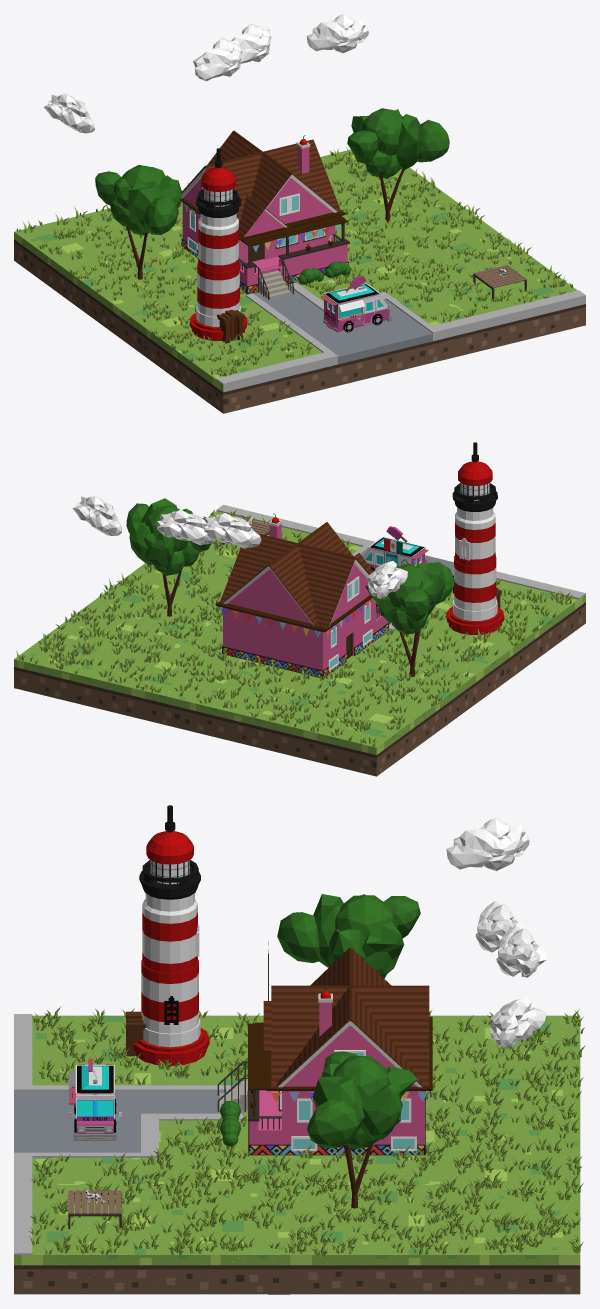
3 views of the same model, one above another, from view 1: azimuth 30°, elevation 25°; view 2: azimuth 150°, elevation 25°; view 3: azimuth 270°, elevation 25° (orthographic). The views are drawn at different scales.
Visible parts, largest first — view 1: Cube.006, Circle.012_Grass_0.192, Cube.1005, OBJRANDOM_LIGHTHOUSE, Cube.007, tree, tree.001, VEHICLES_ICE_CREAM_TRUCK, Cube.009; view 2: Cube.006, Cube.1005, Circle.012_Grass_0.192, OBJRANDOM_LIGHTHOUSE, Cube.007, tree.001, tree, VEHICLES_ICE_CREAM_TRUCK; view 3: Cube.006, Circle.012_Grass_0.192, Cube.1005, OBJRANDOM_LIGHTHOUSE, tree, Cube.007, tree.001, VEHICLES_ICE_CREAM_TRUCK, Cube.009.
Boxes of the visible parts, <box> form: Cube.006: <box>14,149,585,413</box>; Circle.012_Grass_0.192: <box>16,147,573,376</box>; Cube.1005: <box>179,130,349,300</box>; OBJRANDOM_LIGHTHOUSE: <box>189,148,247,343</box>; Cube.007: <box>44,14,368,133</box>; tree: <box>347,108,449,222</box>; tree.001: <box>95,165,181,279</box>; VEHICLES_ICE_CREAM_TRUCK: <box>320,275,393,332</box>; Cube.009: <box>473,265,526,299</box>; Cube.006: <box>14,505,585,776</box>; Cube.1005: <box>215,513,402,678</box>; Circle.012_Grass_0.192: <box>16,510,572,746</box>; OBJRANDOM_LIGHTHOUSE: <box>446,442,503,634</box>; Cube.007: <box>72,495,407,599</box>; tree.001: <box>365,562,454,676</box>; tree: <box>126,498,211,616</box>; VEHICLES_ICE_CREAM_TRUCK: <box>363,526,428,571</box>; Cube.006: <box>14,1014,580,1294</box>; Circle.012_Grass_0.192: <box>29,1006,585,1256</box>; Cube.1005: <box>217,941,432,1155</box>; OBJRANDOM_LIGHTHOUSE: <box>126,805,209,1065</box>; tree: <box>307,1051,417,1208</box>; Cube.007: <box>446,818,546,1048</box>; tree.001: <box>277,894,420,978</box>; VEHICLES_ICE_CREAM_TRUCK: <box>68,1058,121,1141</box>; Cube.009: <box>68,1190,121,1229</box>.
Size of the model in its own units: 4071 by 2295 by 4040.
81 materials, 5 textured.
